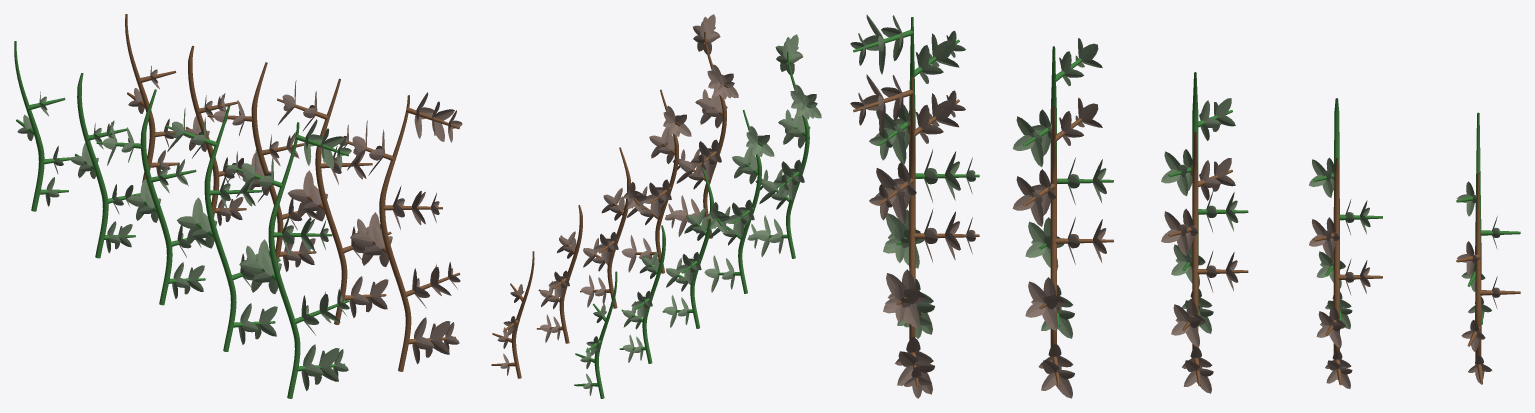
Rendered from Sauge.glb.
The picture shows the model from 3 angles, left to right: view 1: azimuth 30°, elevation 25°; view 2: azimuth 150°, elevation 25°; view 3: azimuth 270°, elevation 25°; orthographic projection. The views are drawn at different scales.
Parts seen in each view (by area): view 1: BézierCurveBourgeons.004, BézierCurveBourgeons.009, BézierCurveBourgeons.003, BézierCurveBourgeons.008, BézierCurveBourgeons.002, BézierCurveBourgeons.007, BézierCurveBourgeons.001, BézierCurveBourgeons.006, BézierCurveBourgeons, BézierCurveBourgeons.005; view 2: BézierCurveBourgeons.004, BézierCurveBourgeons.009, BézierCurveBourgeons.003, BézierCurveBourgeons.008, BézierCurveBourgeons.002, BézierCurveBourgeons.007, BézierCurveBourgeons.001, BézierCurveBourgeons.006, BézierCurveBourgeons.005, BézierCurveBourgeons; view 3: BézierCurveBourgeons.009, BézierCurveBourgeons.004, BézierCurveBourgeons.008, BézierCurveBourgeons.007, BézierCurveBourgeons.003, BézierCurveBourgeons.002, BézierCurveBourgeons.006, BézierCurveBourgeons.001, BézierCurveBourgeons.005, BézierCurveBourgeons.
Boxes of the visible parts, x1,y1,x2,y2 form: BézierCurveBourgeons.004: [226, 119, 351, 398]; BézierCurveBourgeons.009: [339, 92, 462, 371]; BézierCurveBourgeons.003: [166, 105, 280, 351]; BézierCurveBourgeons.008: [277, 78, 391, 324]; BézierCurveBourgeons.002: [96, 89, 208, 305]; BézierCurveBourgeons.007: [207, 62, 318, 271]; BézierCurveBourgeons.001: [70, 73, 140, 258]; BézierCurveBourgeons.006: [183, 45, 246, 225]; BézierCurveBourgeons: [14, 41, 72, 211]; BézierCurveBourgeons.005: [125, 14, 179, 182]; BézierCurveBourgeons.004: [747, 34, 821, 258]; BézierCurveBourgeons.009: [665, 14, 738, 238]; BézierCurveBourgeons.003: [704, 110, 774, 293]; BézierCurveBourgeons.008: [621, 89, 691, 273]; BézierCurveBourgeons.002: [662, 167, 729, 328]; BézierCurveBourgeons.007: [580, 147, 646, 308]; BézierCurveBourgeons.001: [619, 225, 665, 363]; BézierCurveBourgeons.006: [536, 205, 582, 343]; BézierCurveBourgeons.005: [491, 251, 534, 378]; BézierCurveBourgeons: [574, 271, 617, 398]; BézierCurveBourgeons.009: [850, 74, 979, 398]; BézierCurveBourgeons.004: [850, 14, 979, 338]; BézierCurveBourgeons.008: [1012, 97, 1113, 398]; BézierCurveBourgeons.007: [1161, 132, 1248, 393]; BézierCurveBourgeons.003: [1013, 38, 1113, 338]; BézierCurveBourgeons.002: [1161, 72, 1248, 333]; BézierCurveBourgeons.006: [1309, 158, 1382, 388]; BézierCurveBourgeons.001: [1309, 98, 1382, 329]; BézierCurveBourgeons.005: [1456, 172, 1520, 384]; BézierCurveBourgeons: [1456, 112, 1520, 324].
Bounding box in the file's own units: 1.98 × 2.45 × 4.74.
